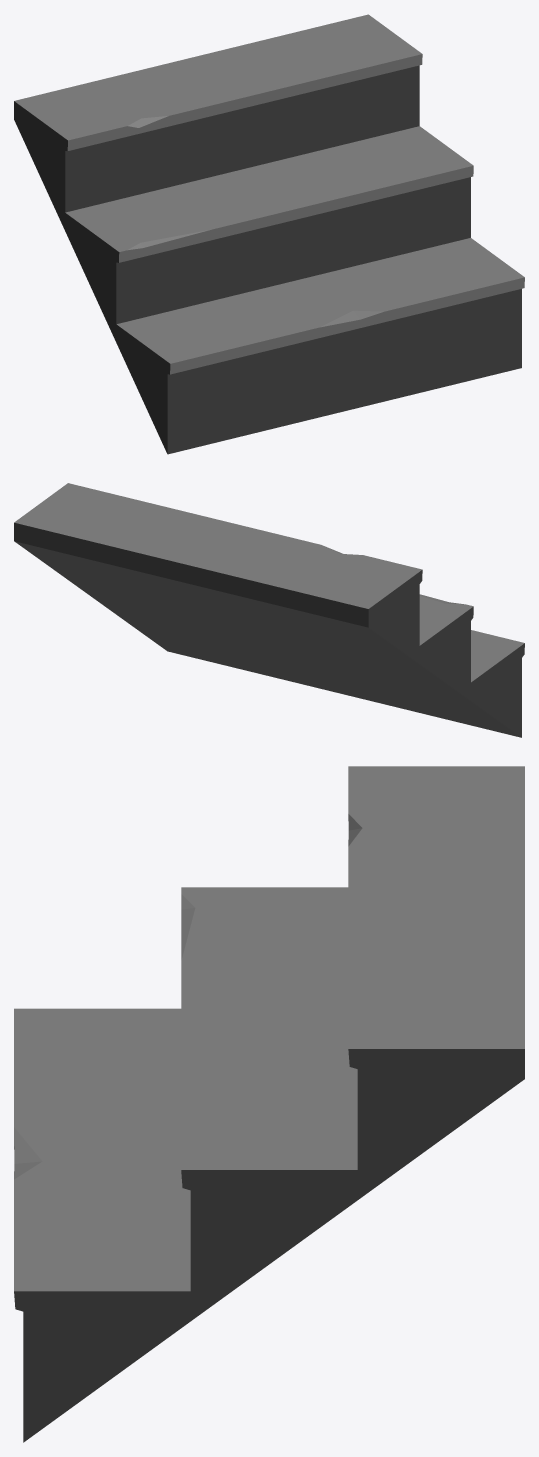
Rendered from SW_ENV_StationStair_Steps_3.fbx.
3 views of the same model, one above another, from view 1: azimuth 30°, elevation 25°; view 2: azimuth 150°, elevation 25°; view 3: azimuth 270°, elevation 25° (orthographic). The views are drawn at different scales.
Parts seen in each view (by area): view 1: SW_ENV_StationStair_Steps_3; view 2: SW_ENV_StationStair_Steps_3; view 3: SW_ENV_StationStair_Steps_3.
Part boxes in pixels (<box>): SW_ENV_StationStair_Steps_3: <box>14,14,524,454</box>; SW_ENV_StationStair_Steps_3: <box>14,483,524,737</box>; SW_ENV_StationStair_Steps_3: <box>14,766,524,1442</box>.
Bounding box in the file's own units: 100 × 65 × 76.42.
